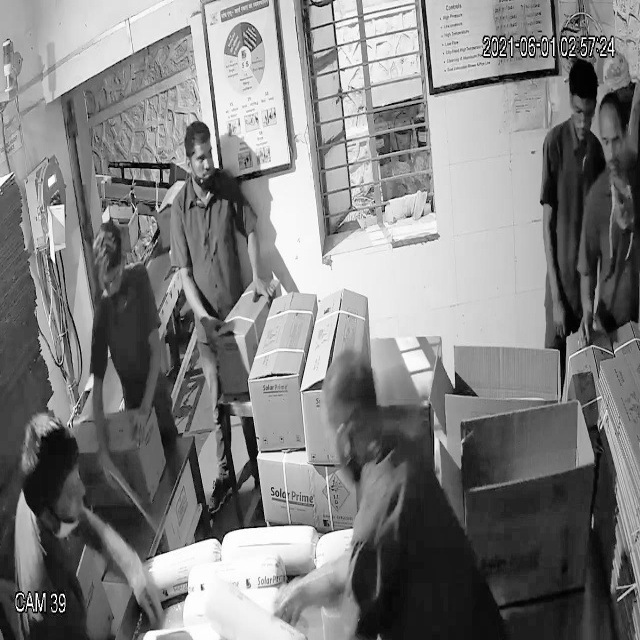Sin_gafas: (596, 126, 630, 164), (185, 146, 217, 171)
